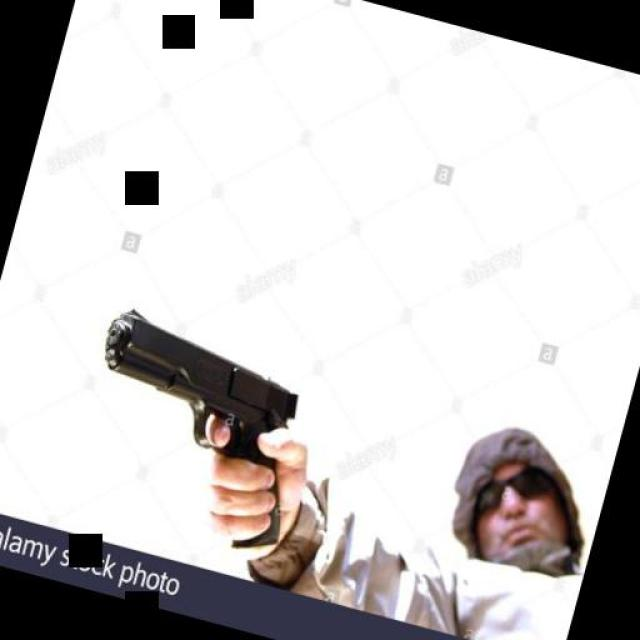gun: (56, 293, 328, 556)
